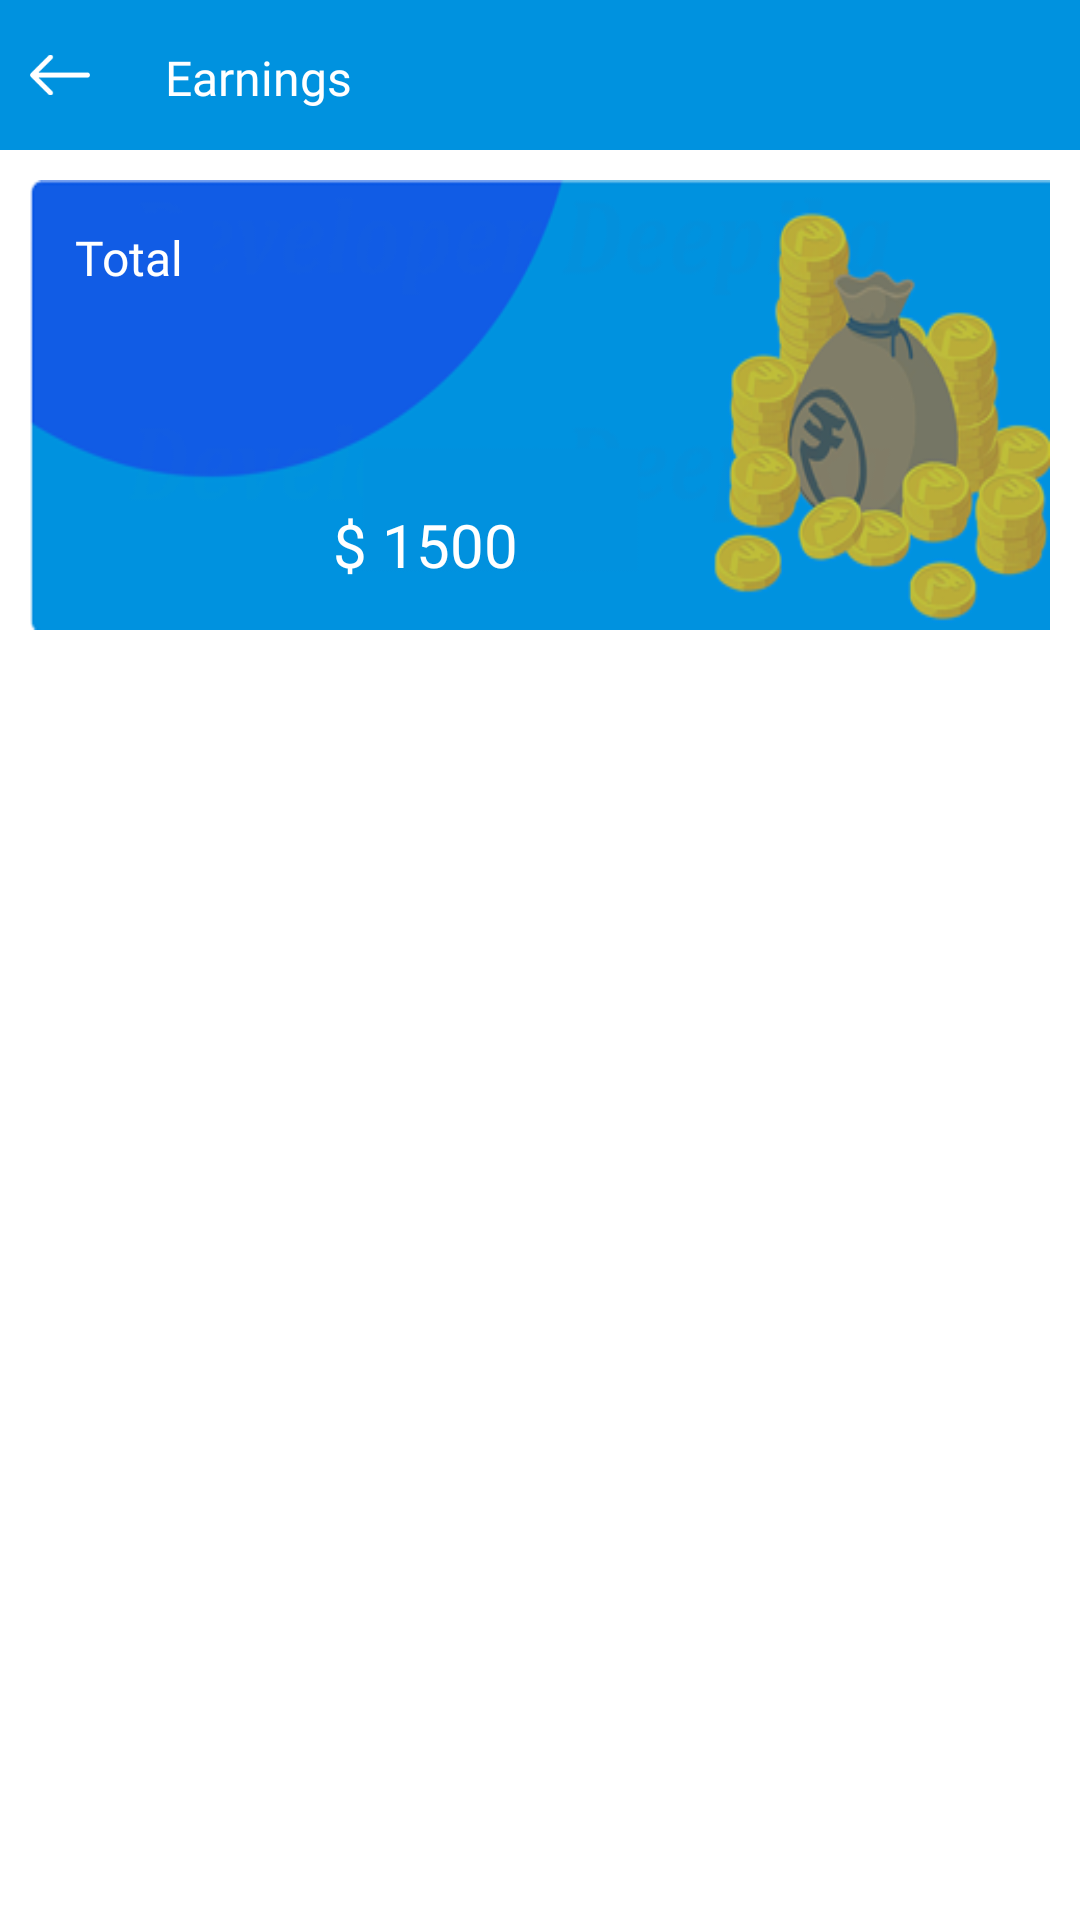

Point at icon controls on the screen. Image size 1080x1920, points as (x,y).
back: (60,75)
